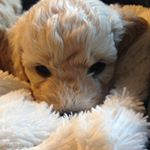puppy: (1, 1, 125, 119)
